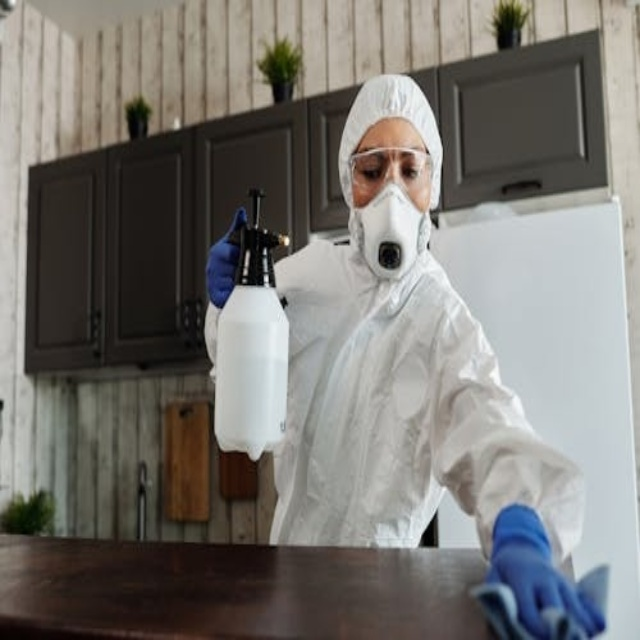Gafas: (347, 147, 434, 189)
Guantes: (475, 503, 605, 640), (206, 207, 248, 309)
Mascara: (352, 182, 429, 281)
